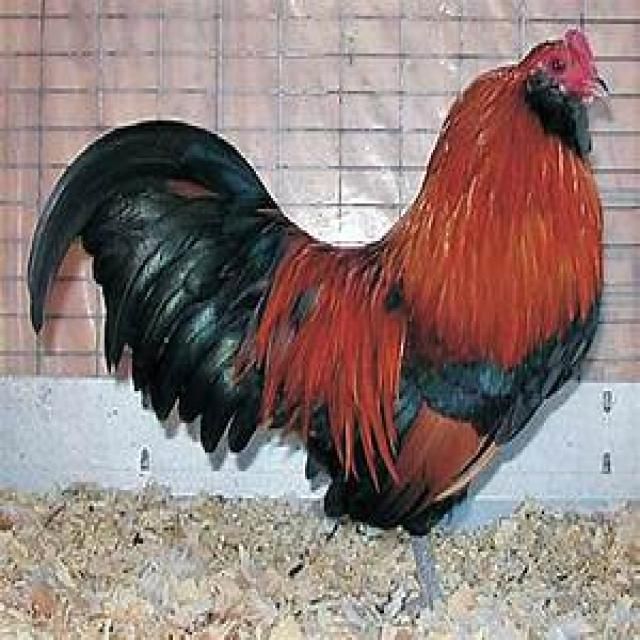hen: (26, 29, 610, 611)
